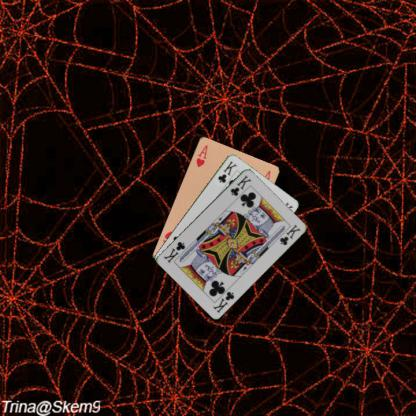Ah: (194, 142, 209, 168)
Kc: (210, 288, 236, 314), (215, 158, 239, 184), (228, 173, 252, 197)
